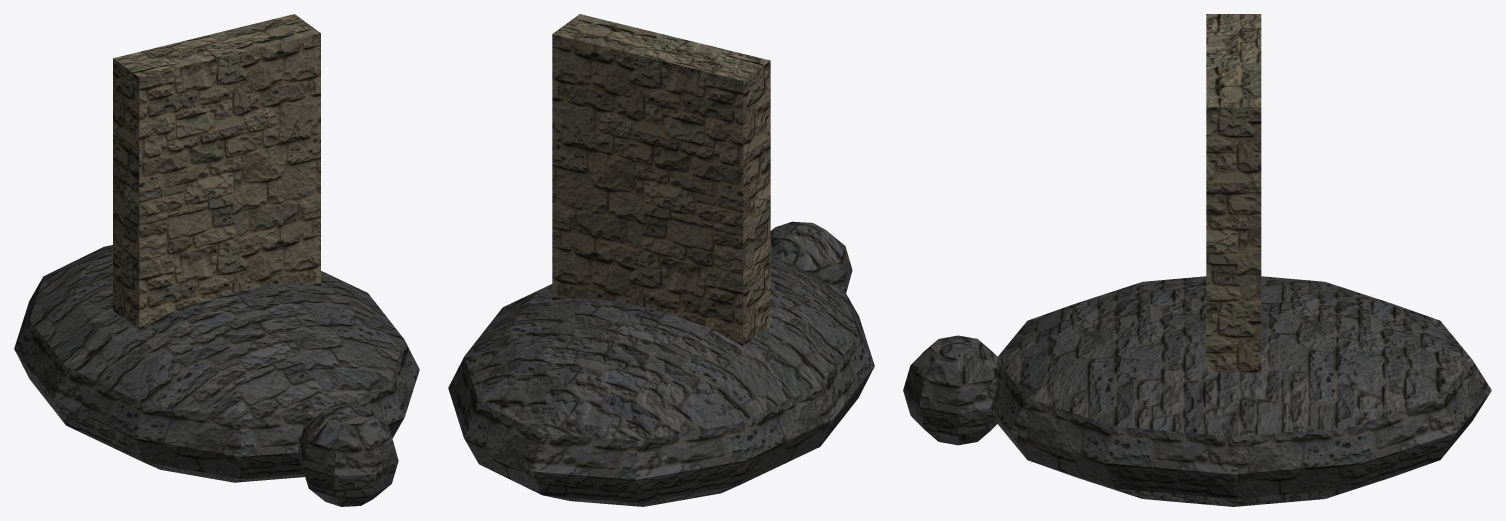
Rendered from turtle_stele_01.glb.
The picture shows the model from 3 angles, left to right: view 1: azimuth 30°, elevation 25°; view 2: azimuth 150°, elevation 25°; view 3: azimuth 270°, elevation 25°; orthographic projection. The views are drawn at different scales.
Visible parts, largest first — view 1: turtle_stele_01; view 2: turtle_stele_01; view 3: turtle_stele_01.
Part boxes in pixels (x1,y1,x2,y2): turtle_stele_01: (14,14,419,506); turtle_stele_01: (448,14,874,506); turtle_stele_01: (903,14,1491,506).
Bounding box in the file's own units: 1.8 × 2.05 × 2.67.
Materials: 2 (2 with a texture image).
